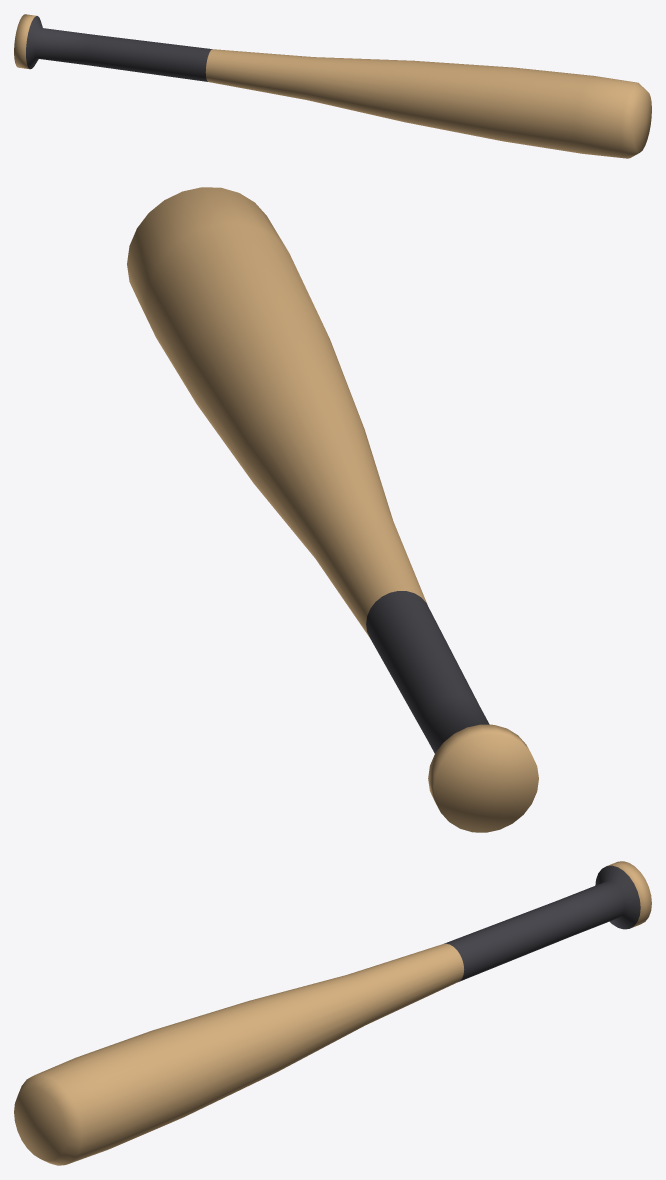
Rendered from bat.glb.
3 renders of one model, top to bottom at view 1: azimuth 30°, elevation 25°; view 2: azimuth 150°, elevation 25°; view 3: azimuth 270°, elevation 25°, orthographic. The views are drawn at different scales.
Parts seen in each view (by area): view 1: Bat_export; view 2: Bat_export; view 3: Bat_export.
Part boxes in pixels (x1,y1,x2,y2): Bat_export: (14,14,651,158); Bat_export: (127,187,538,832); Bat_export: (14,861,651,1165).
Size of the model in its own units: 0.4661 by 0.076 by 0.4963.
